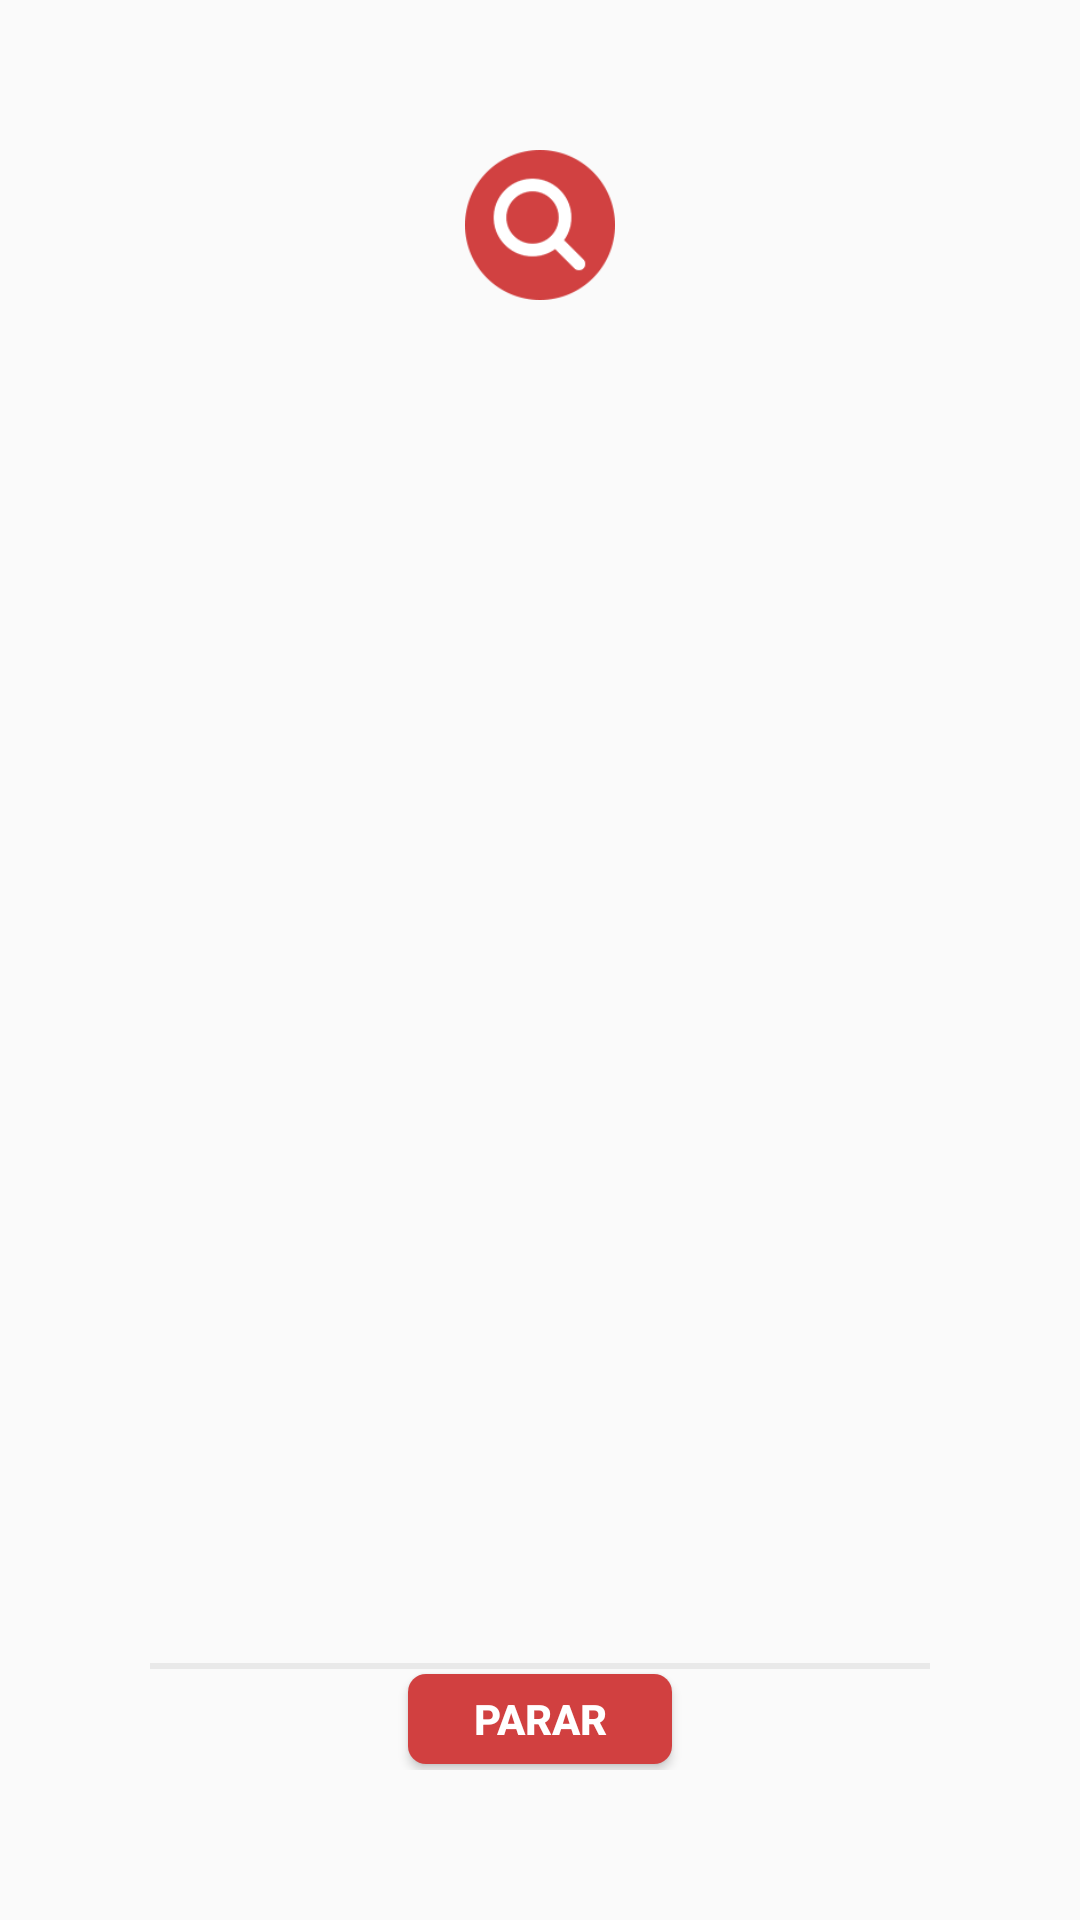

Where icons sit on this 1080 × 1920 app screen, as BBox(x1, y1, x2, y2):
lupa: BBox(465, 150, 615, 300)
